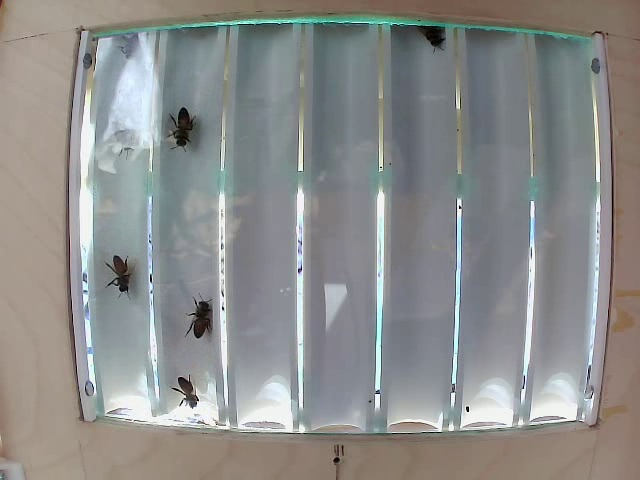bee: (184, 293, 230, 341), (104, 254, 134, 306), (170, 97, 194, 138)
